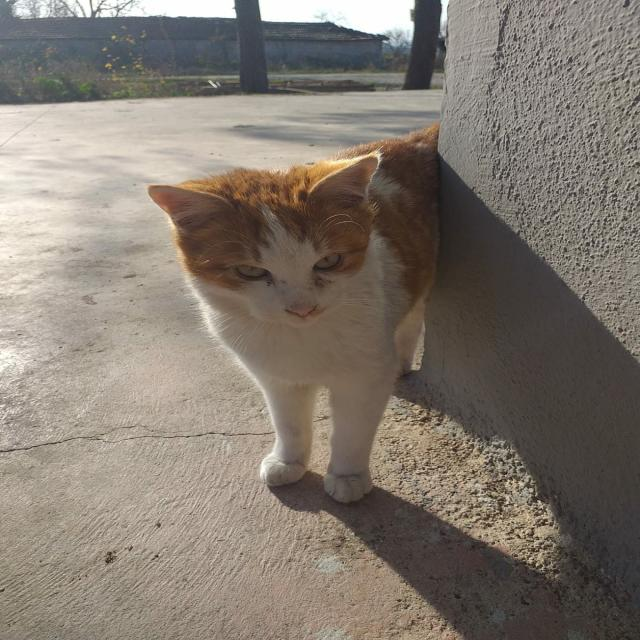sarman: (149, 124, 438, 502)
